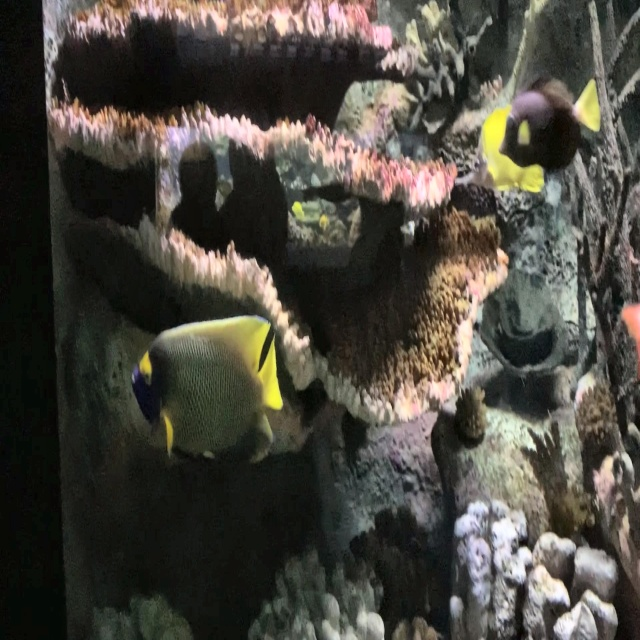fish: (127, 310, 285, 469), (482, 73, 601, 183), (469, 103, 544, 193), (291, 200, 304, 222), (318, 213, 329, 231)
